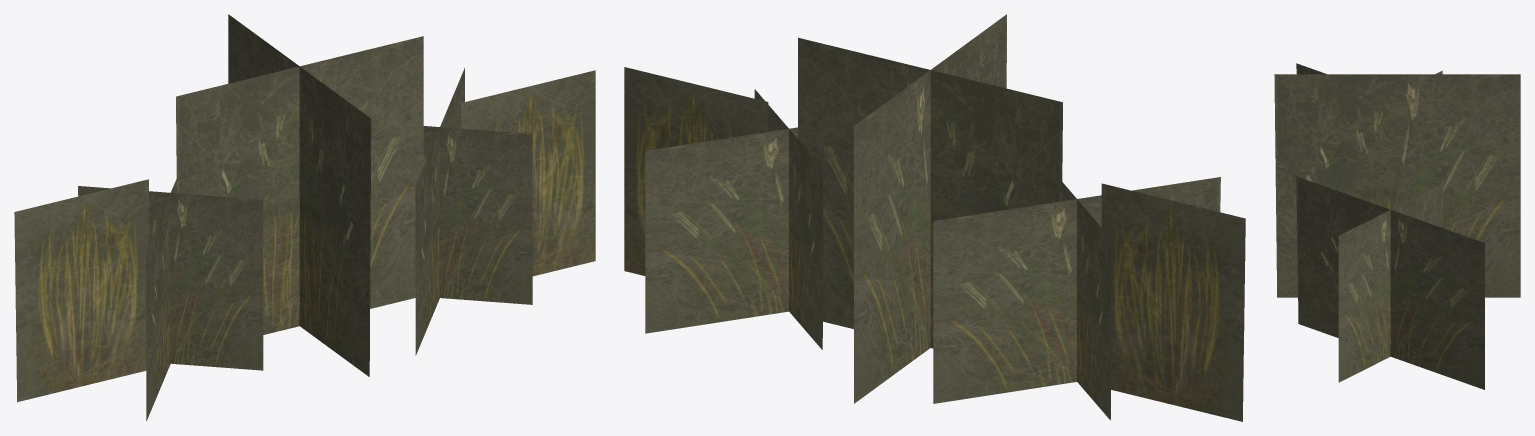
The model's file is GrassA.FBX.
3 renders of one model, left to right at view 1: azimuth 30°, elevation 25°; view 2: azimuth 150°, elevation 25°; view 3: azimuth 270°, elevation 25°, orthographic. The views are drawn at different scales.
Visible parts, largest first — view 1: GrassA; view 2: GrassA; view 3: GrassA.
Boxes of the visible parts, left/top/right/bottom form: GrassA: left=14, top=14, right=595, bottom=421; GrassA: left=624, top=14, right=1245, bottom=421; GrassA: left=1274, top=63, right=1520, bottom=389.
Size of the model in its own units: 121 by 52.12 by 51.5.
1 material, 1 textured.
